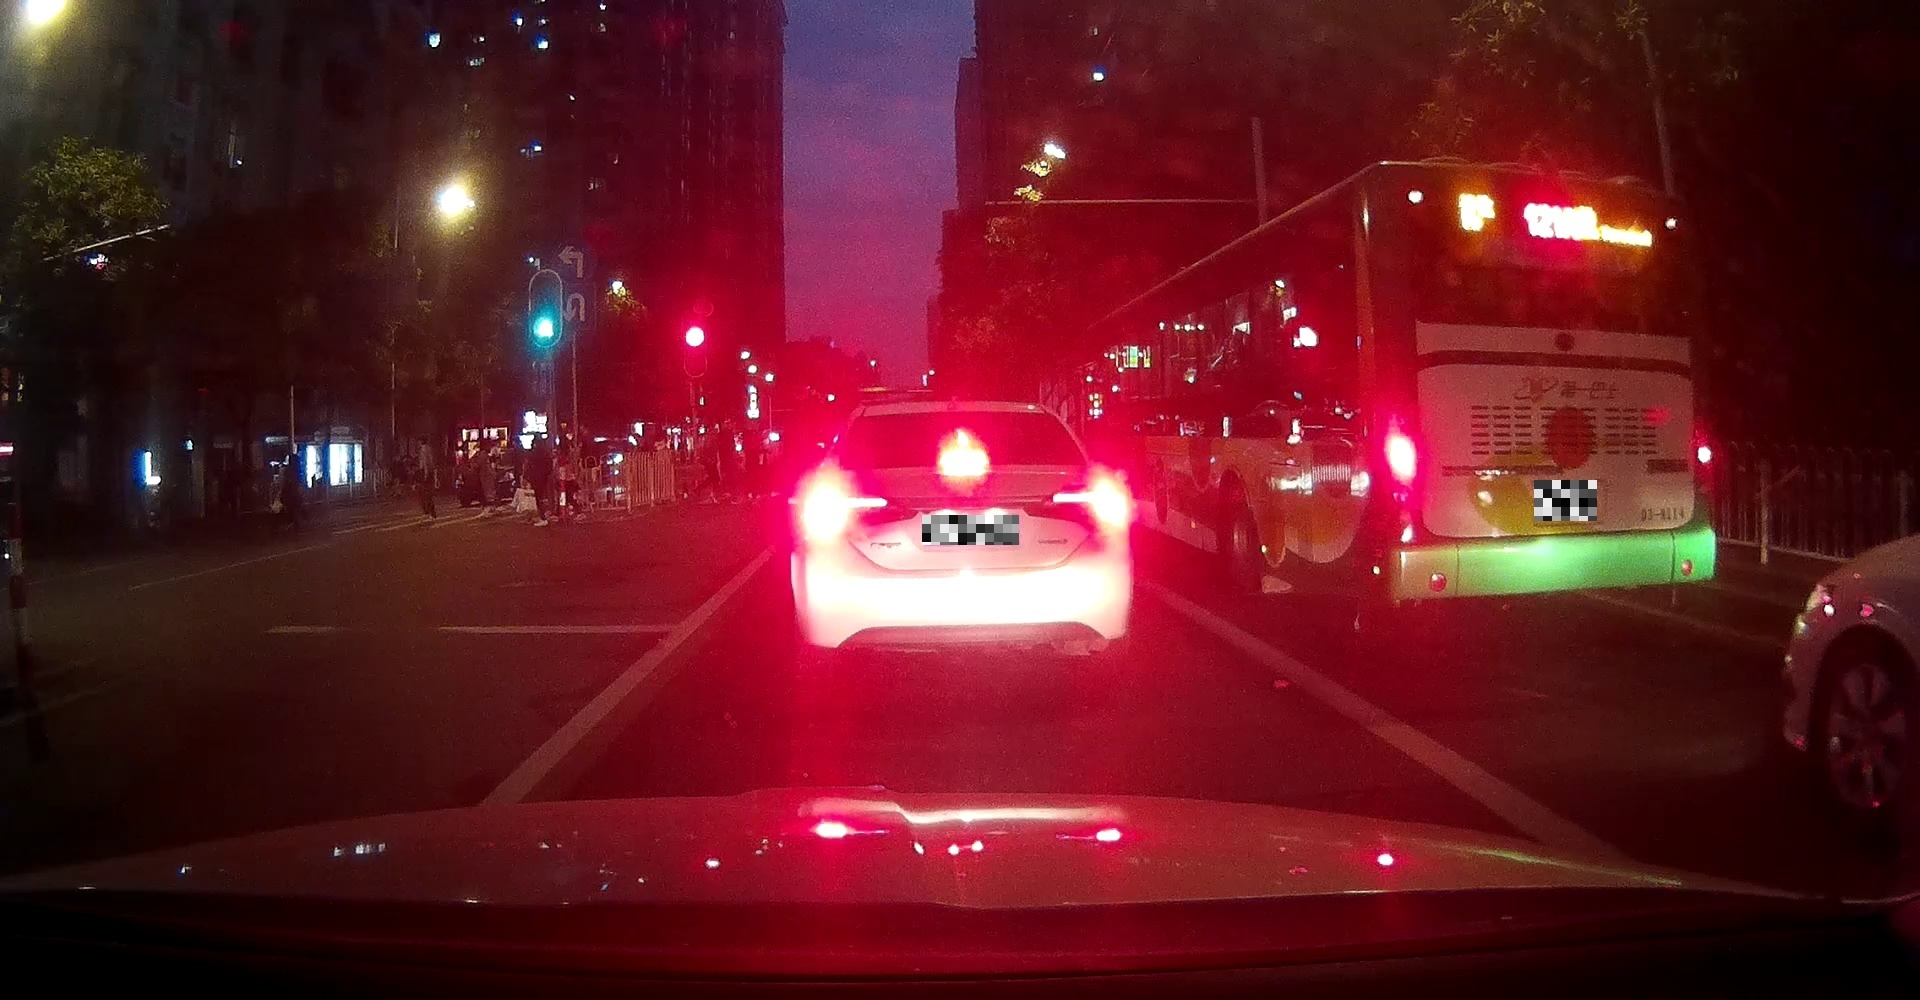L_light: (803, 475, 888, 544), (1384, 429, 1416, 485)
R_light: (1051, 470, 1129, 530), (1697, 433, 1713, 476)
T_light: (938, 445, 989, 472), (1533, 187, 1582, 203)
night-brake: (801, 398, 1131, 669)
night-left: (1379, 162, 1716, 607)
plate_1: (922, 515, 1018, 544)
plate_2: (1534, 480, 1597, 522)
